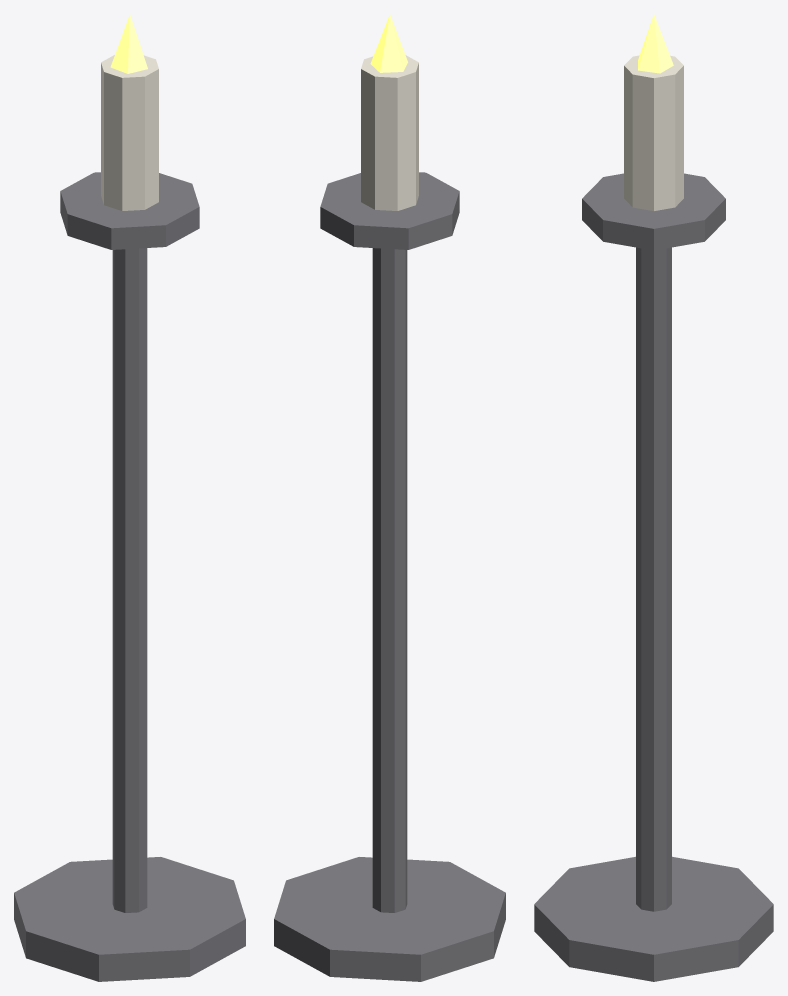
File: candle_stand.glb
3 renders of one model, left to right at view 1: azimuth 30°, elevation 25°; view 2: azimuth 150°, elevation 25°; view 3: azimuth 270°, elevation 25°, orthographic.
Visible parts, largest first — view 1: candle_stand; view 2: candle_stand; view 3: candle_stand.
Part boxes in pixels (x1,y1,x2,y2): candle_stand: (14, 14, 245, 981); candle_stand: (274, 14, 505, 981); candle_stand: (534, 14, 773, 981).
Bounding box in the file's own units: 0.4 × 1.69 × 0.4.
